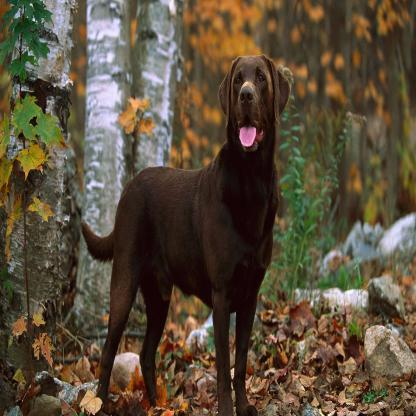dog: (74, 52, 293, 416)
